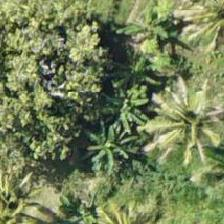coconut_tree: (145, 81, 223, 171), (0, 163, 53, 223)
